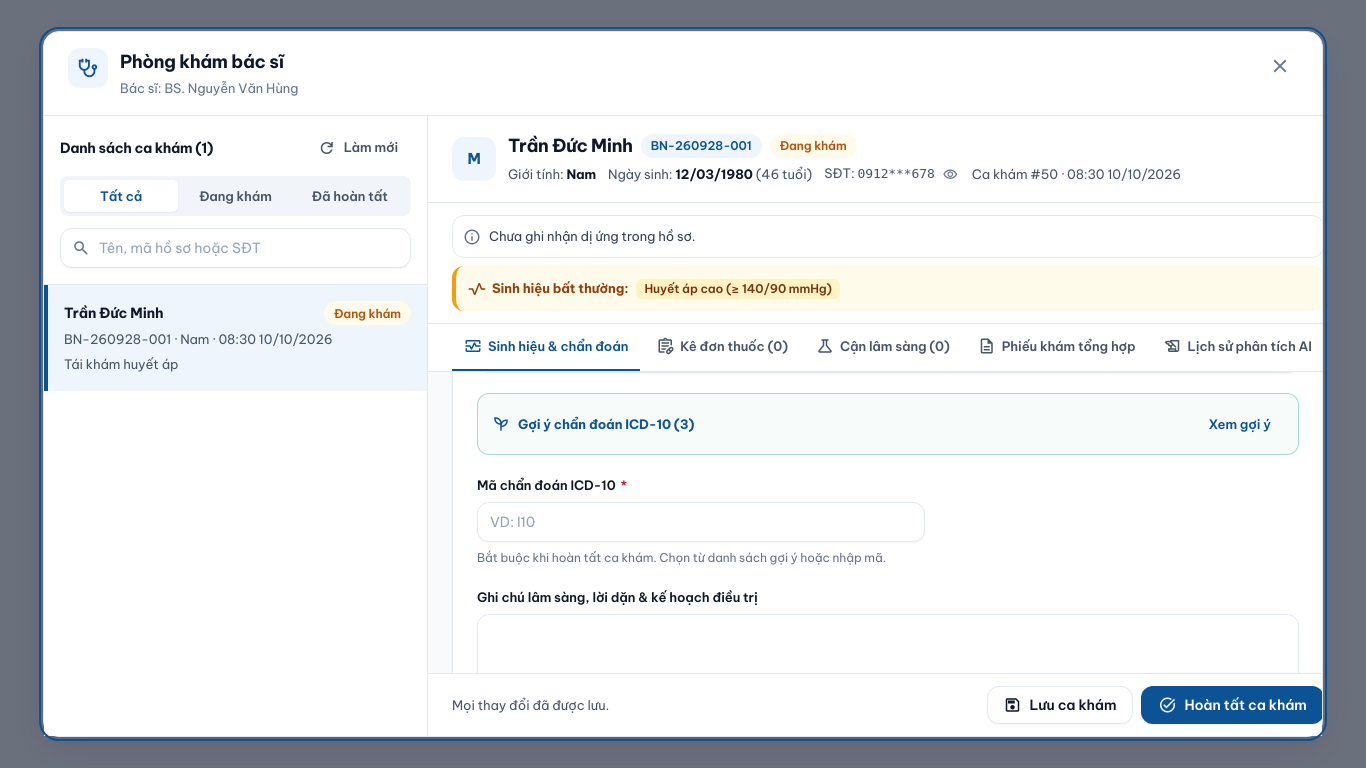
Khám bệnh – giao diện Phòng khám bác sĩ (VisitDashboard) › hoàn tất ca khám: cập nhật rồi PATCH complete, sau đó khóa hồ sơ
(page scrolled)
Type "I10" into the field labelled "Mã chẩn đoán ICD-10 *" at (701, 522), box [477,502,925,542]
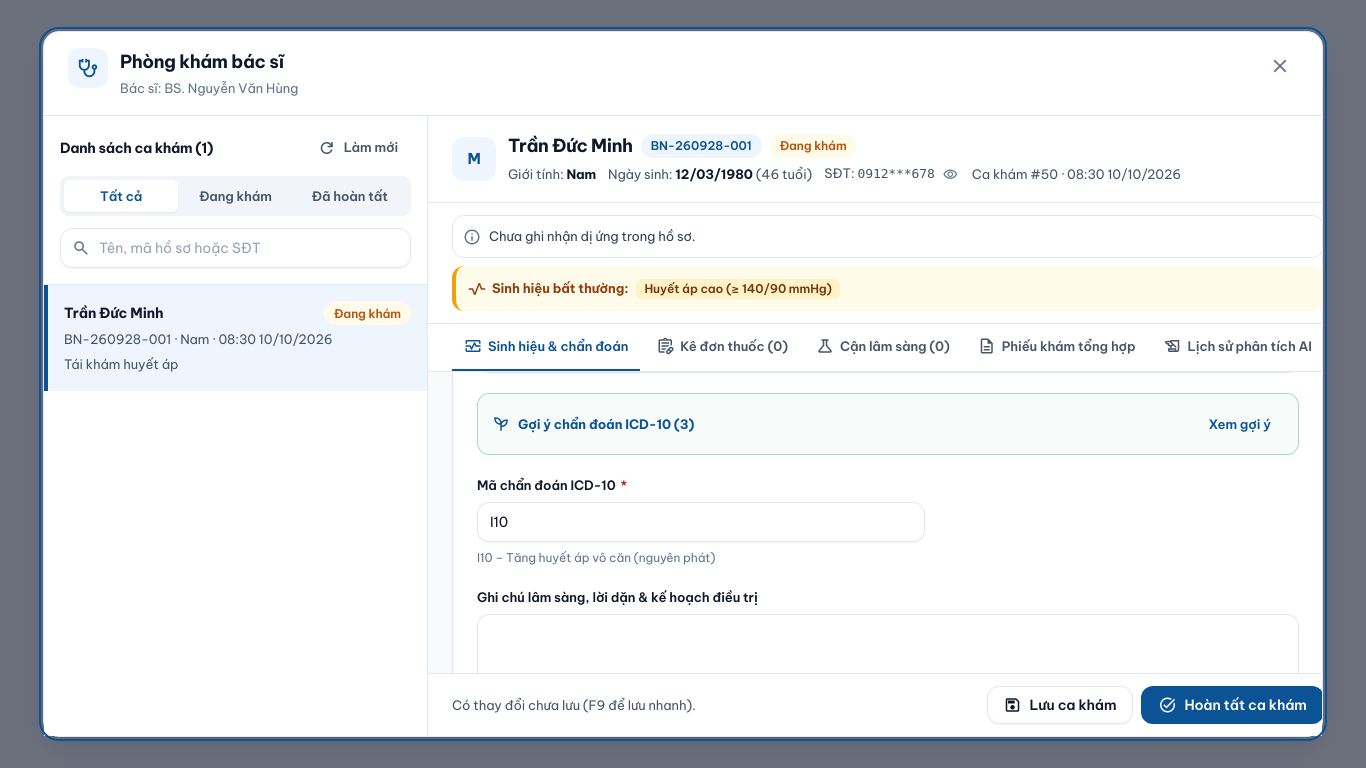
Click the button "Hoàn tất ca khám" at (1233, 705), box [1141,686,1324,724]
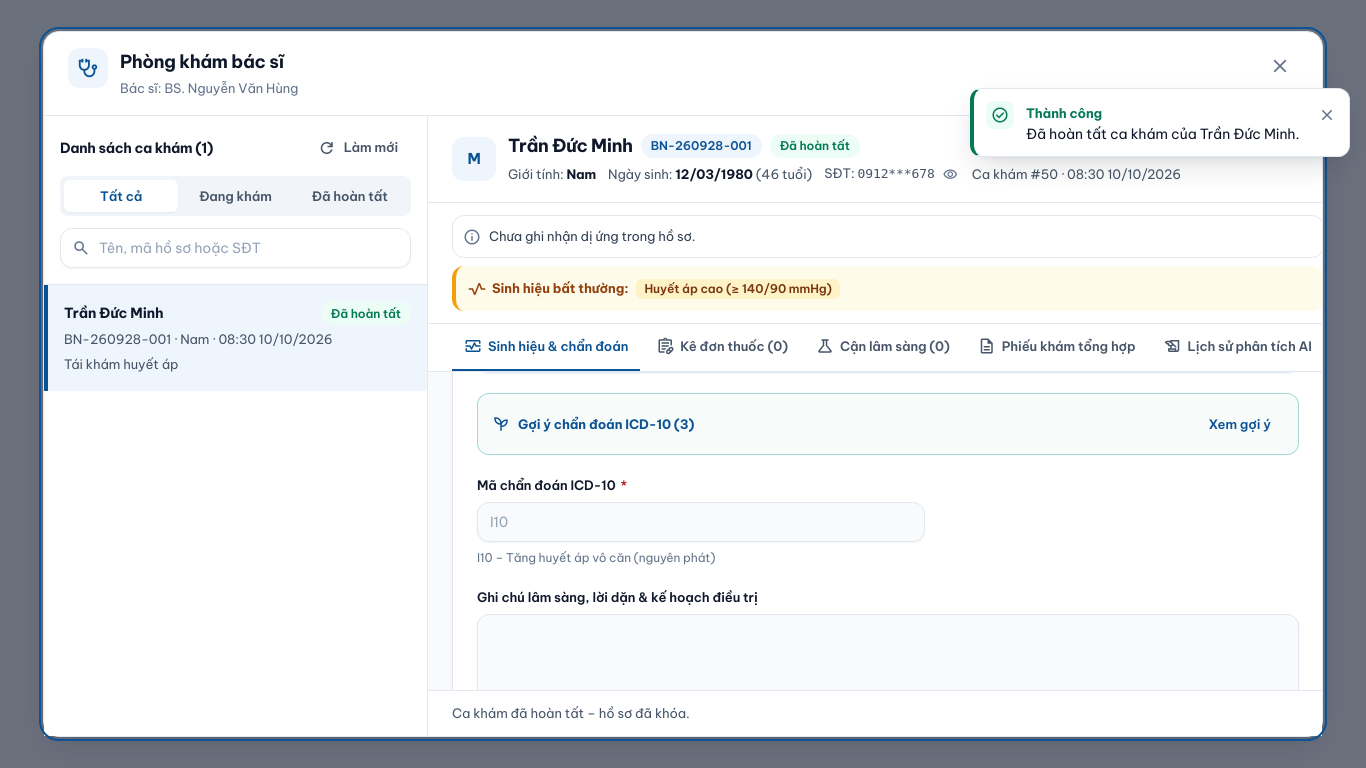
expect the text "Đã hoàn tất ca khám của Trần Đức Minh." is shown: met, box [1026,125,1299,143]
expect the text "Ca khám đã hoàn tất – hồ sơ đã khóa." is shown: met, box [452,704,690,724]
expect the button "Lưu ca khám" is gone: met
